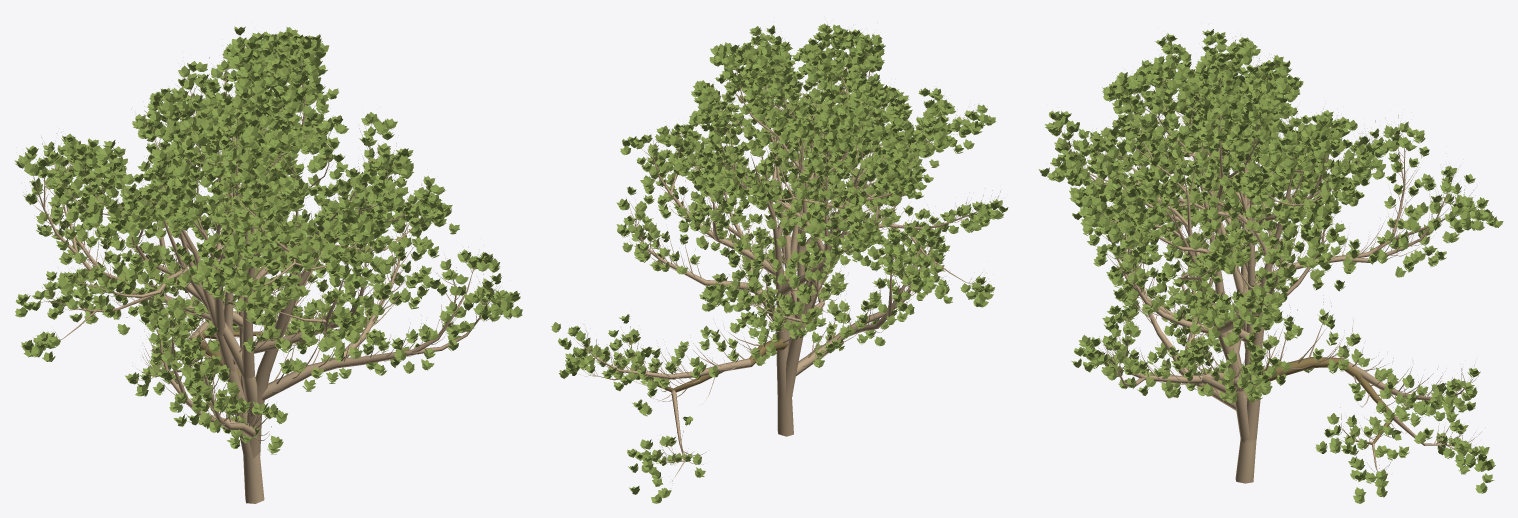
The model's file is Tree.fbx.
3 views of the same model, side by side, from view 1: azimuth 30°, elevation 25°; view 2: azimuth 150°, elevation 25°; view 3: azimuth 270°, elevation 25° (orthographic). The views are drawn at different scales.
Visible parts, largest first — view 1: Main Tree Leaves, Tree Main; view 2: Main Tree Leaves, Tree Main; view 3: Main Tree Leaves, Tree Main.
Part boxes in pixels (x1,y1,x2,y2): Main Tree Leaves: [14, 26, 522, 454]; Tree Main: [21, 30, 501, 503]; Main Tree Leaves: [551, 23, 1008, 503]; Tree Main: [574, 24, 1001, 484]; Main Tree Leaves: [1038, 29, 1503, 503]; Tree Main: [1052, 34, 1481, 483].
Size of the model in its own units: 209 by 222 by 213.
